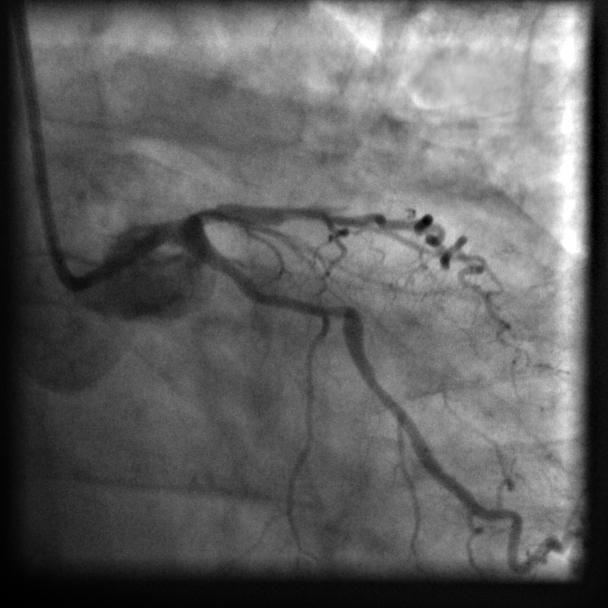Stenosis: (255, 280, 347, 323)
